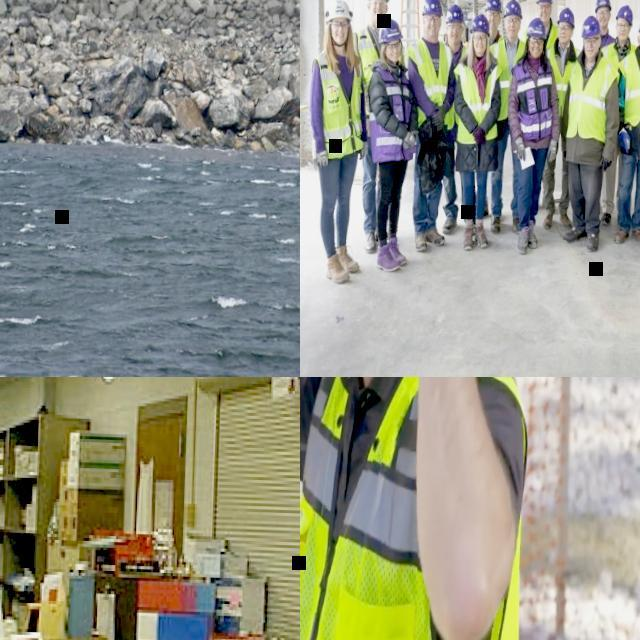helmet: (466, 10, 491, 60), (322, 0, 353, 28), (377, 16, 404, 46), (581, 14, 601, 39), (445, 3, 467, 24), (469, 12, 491, 33), (556, 6, 576, 28), (526, 16, 546, 38), (615, 3, 633, 25), (502, 0, 522, 19), (421, 0, 443, 15), (593, 0, 611, 13), (484, 0, 503, 12), (534, 0, 552, 5)
vest: (300, 377, 532, 640), (308, 48, 366, 161), (350, 21, 405, 120), (402, 36, 456, 130), (368, 62, 413, 166), (451, 52, 501, 144), (566, 53, 619, 138), (508, 54, 555, 142), (487, 36, 525, 121), (544, 45, 582, 116), (441, 37, 468, 123), (617, 50, 640, 128), (522, 24, 558, 58), (600, 40, 634, 68), (488, 32, 504, 58), (600, 34, 614, 49)
